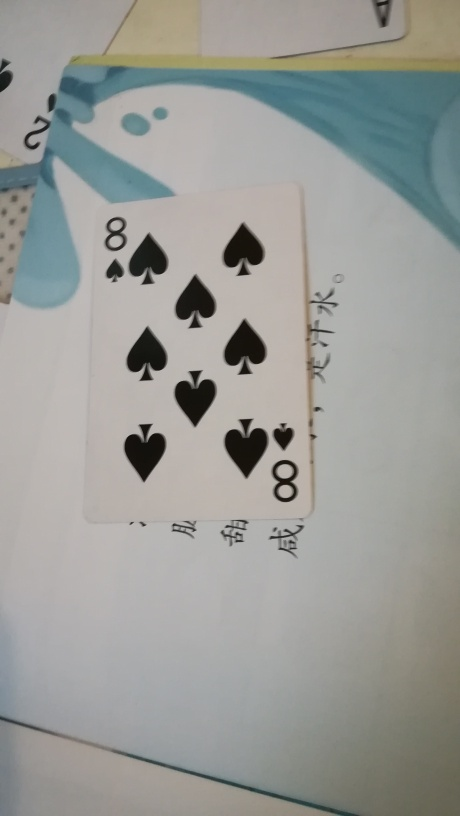ht 8: (80, 183, 327, 529)
